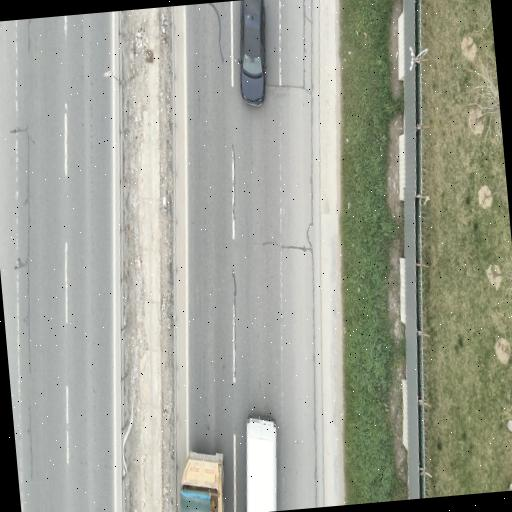car: (240, 0, 265, 105)
truck: (247, 416, 277, 511), (180, 452, 223, 511)
